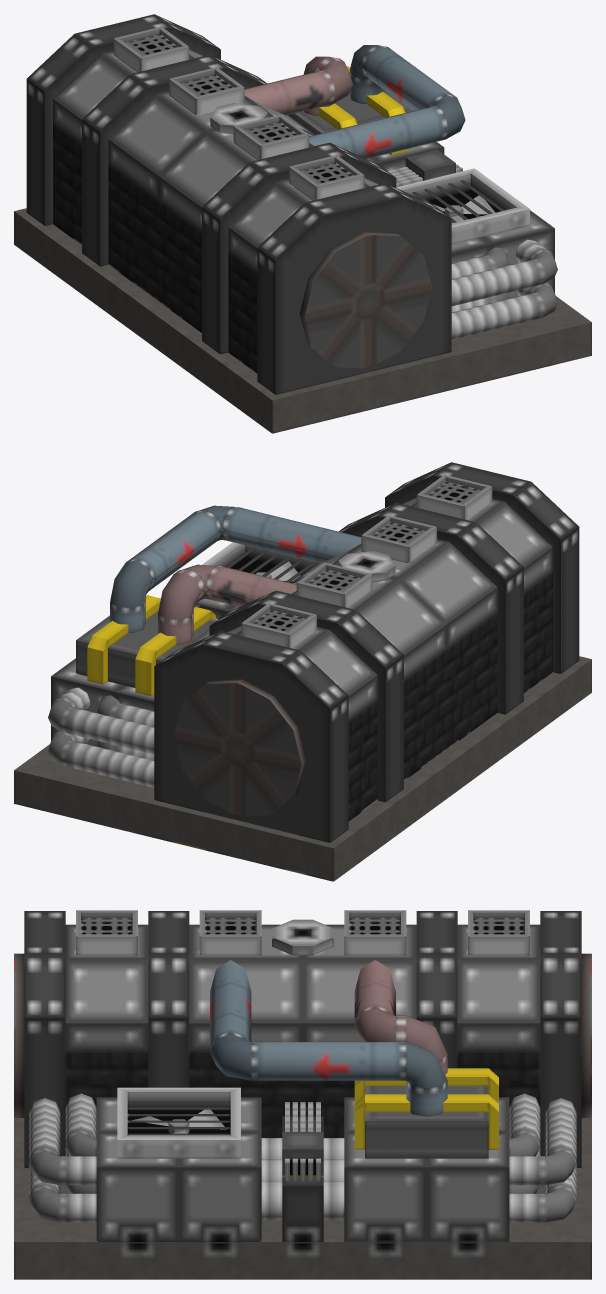
Rendered from pyrooven.obj.
3 views of the same model, one above another, from view 1: azimuth 30°, elevation 25°; view 2: azimuth 150°, elevation 25°; view 3: azimuth 270°, elevation 25° (orthographic). The views are drawn at different scales.
Visible parts, largest first — view 1: Oven, Slider, Fan; view 2: Oven; view 3: Oven, Slider, Fan.
Boxes of the visible parts, x1,y1,x2,y2 form: Oven: [14, 14, 591, 433]; Slider: [405, 149, 455, 180]; Fan: [433, 195, 495, 223]; Oven: [14, 462, 591, 881]; Oven: [14, 910, 591, 1279]; Slider: [282, 1131, 323, 1177]; Fan: [131, 1107, 226, 1133].
Size of the model in its own units: 5 by 3.12 by 7.
